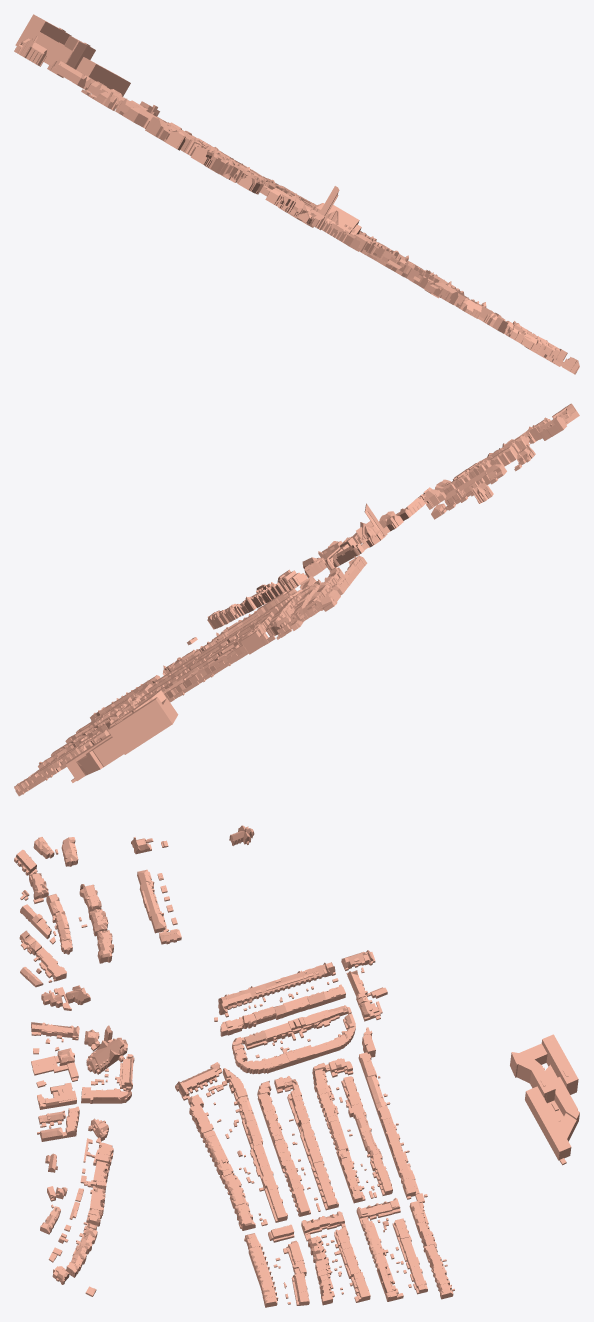
3 views of the same model, one above another, from view 1: azimuth 30°, elevation 25°; view 2: azimuth 150°, elevation 25°; view 3: azimuth 270°, elevation 25° (orthographic). The views are drawn at different scales.
Bounding box in the file's own units: 488 × 388 × 643.
